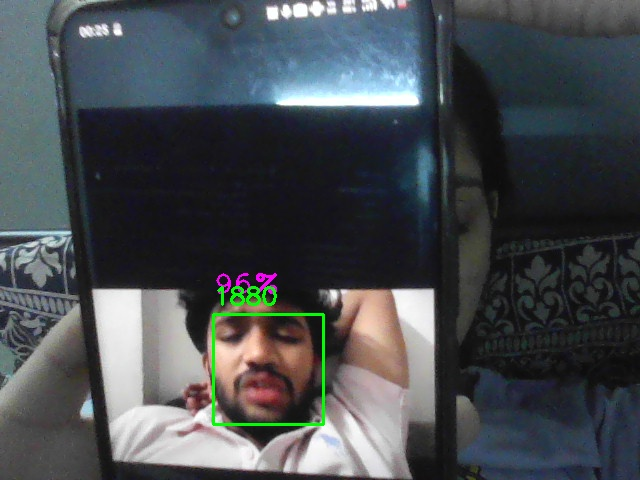fake: (213, 314, 324, 425)
